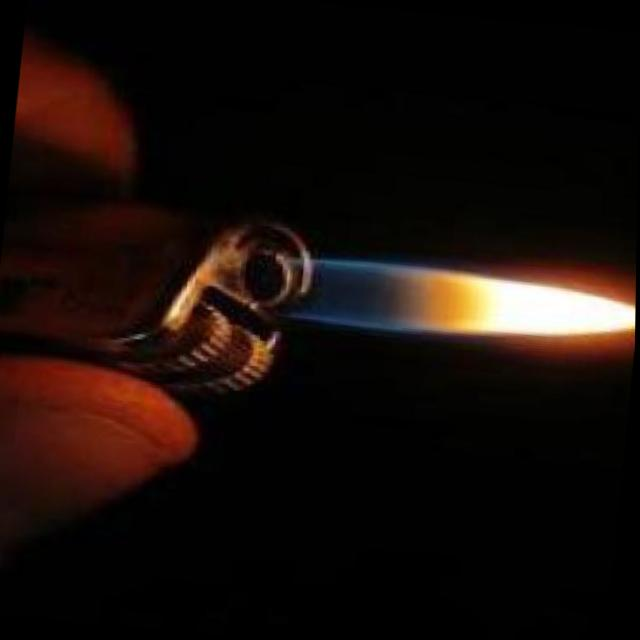Fire: (283, 252, 637, 351)
